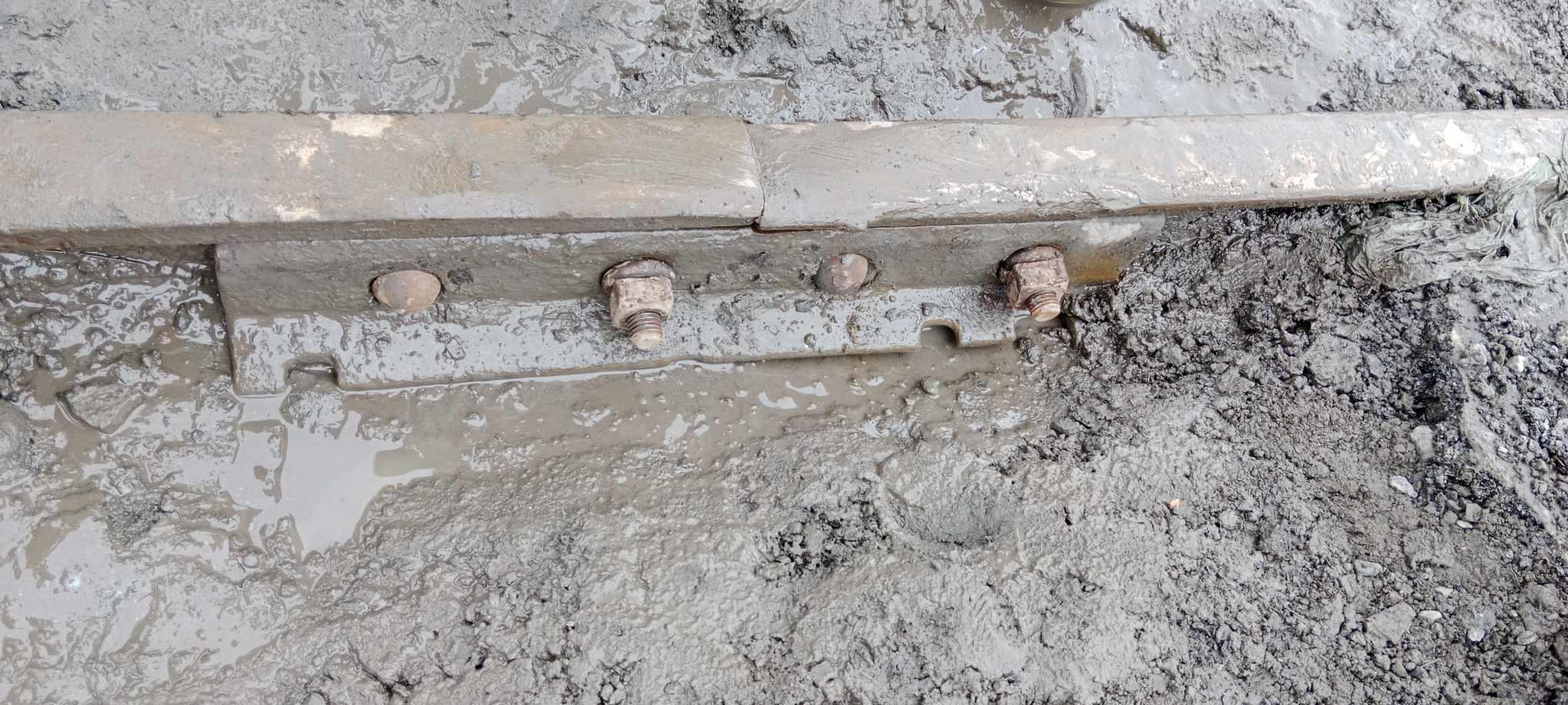railway-gap: (650, 60, 863, 260)
